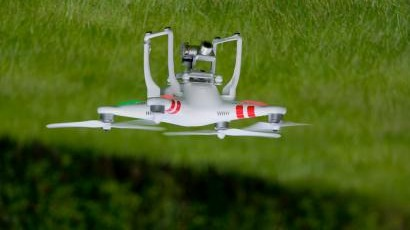drone: (47, 26, 306, 140)
